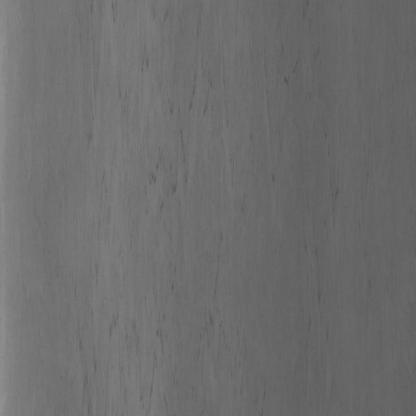silk_spot: (112, 46, 252, 348)
